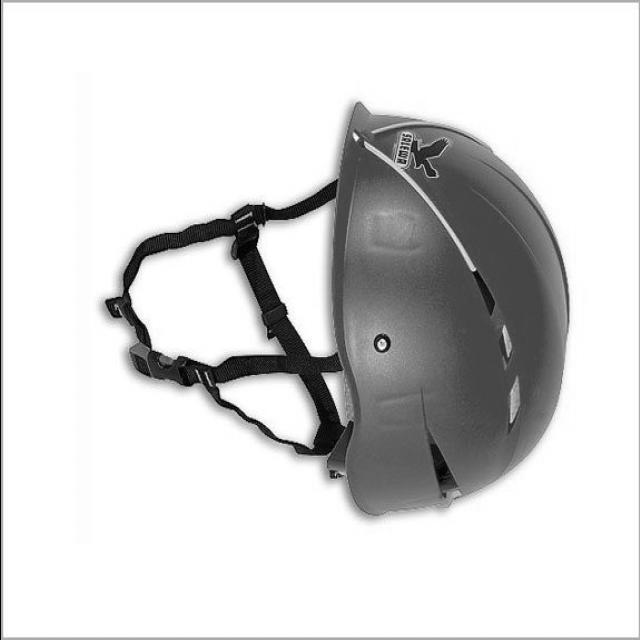safety_helmet: (328, 101, 570, 521)
